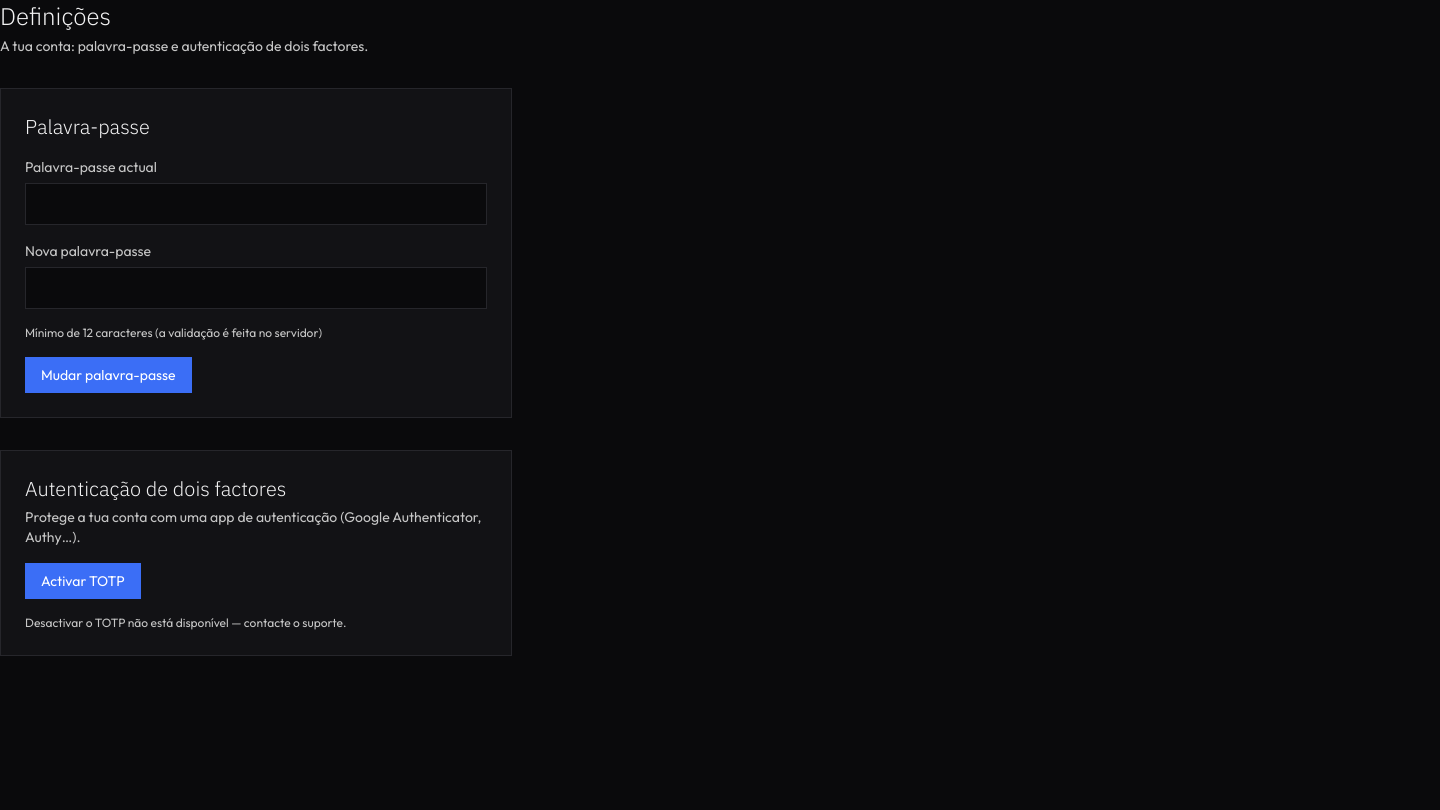
Test: SettingsPage — palavra-passe › mudança: submissão confirma no modal e envia POST exacto {currentPassword,newPassword}
In the password field labelled "Palavra-passe actual": (256, 204) [25,183,487,225], type "senha-actual-123"
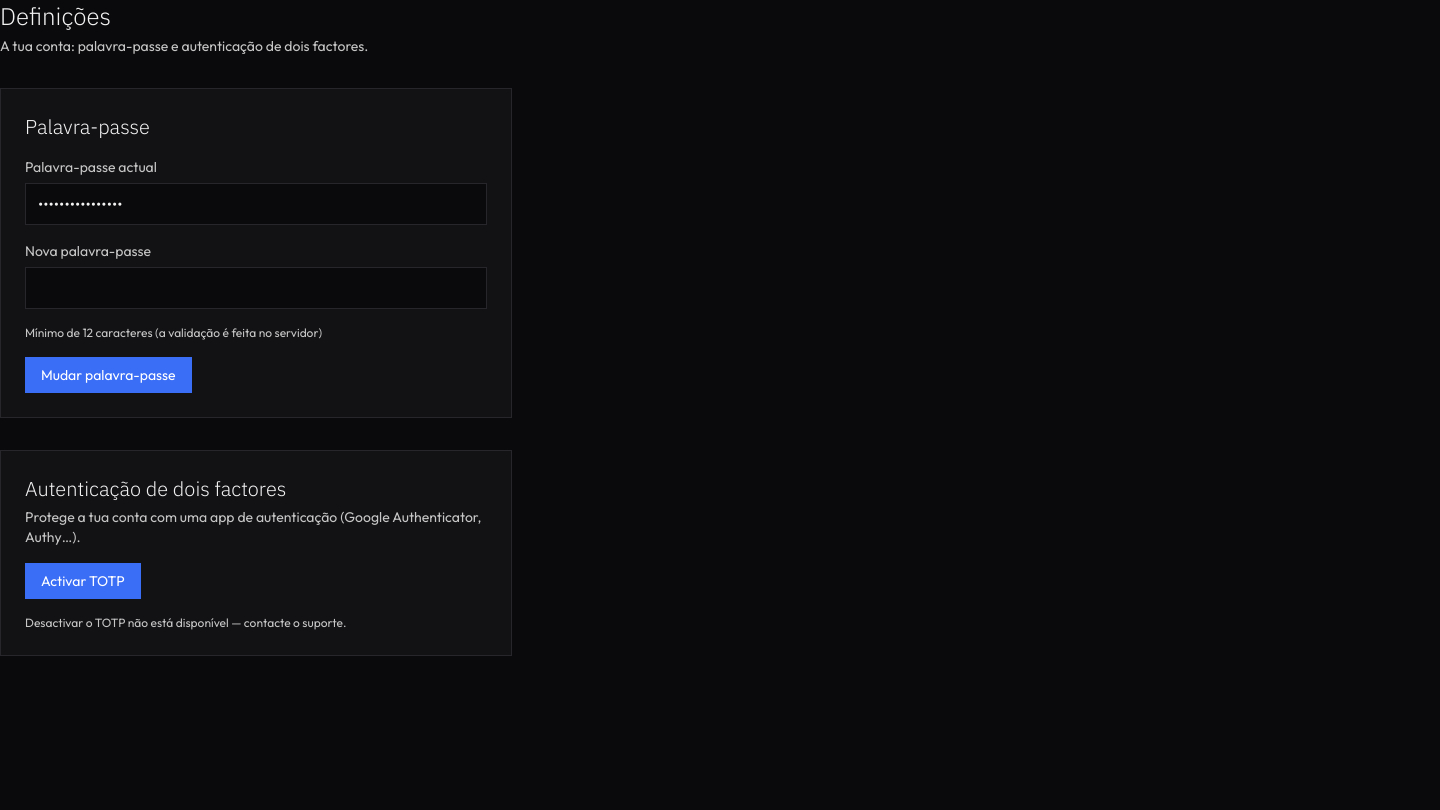
In the password field labelled "Nova palavra-passe": (256, 288) [25,267,487,309], type "senha-nova-super-forte"
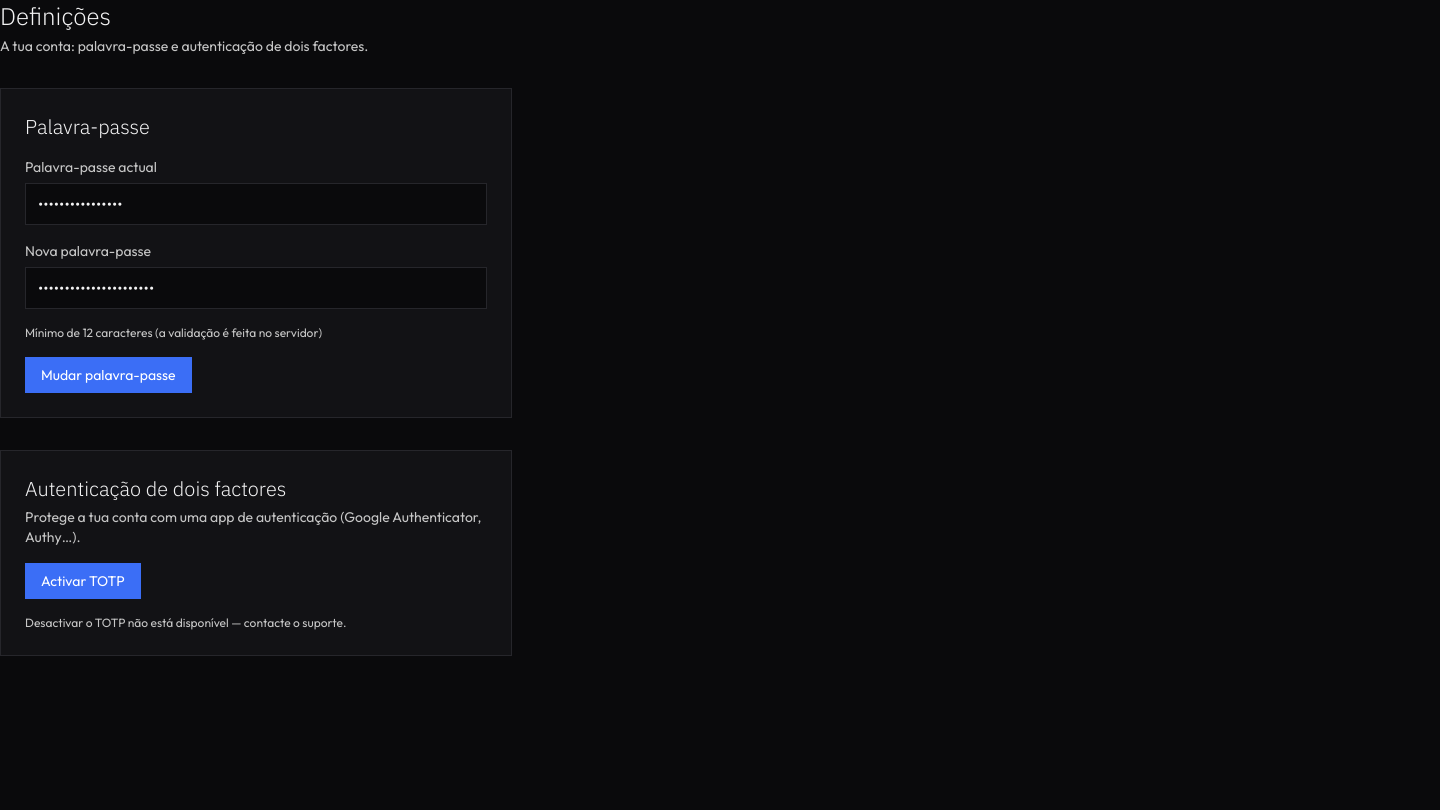
Click the button "Mudar palavra-passe": (108, 375) [25,357,192,393]
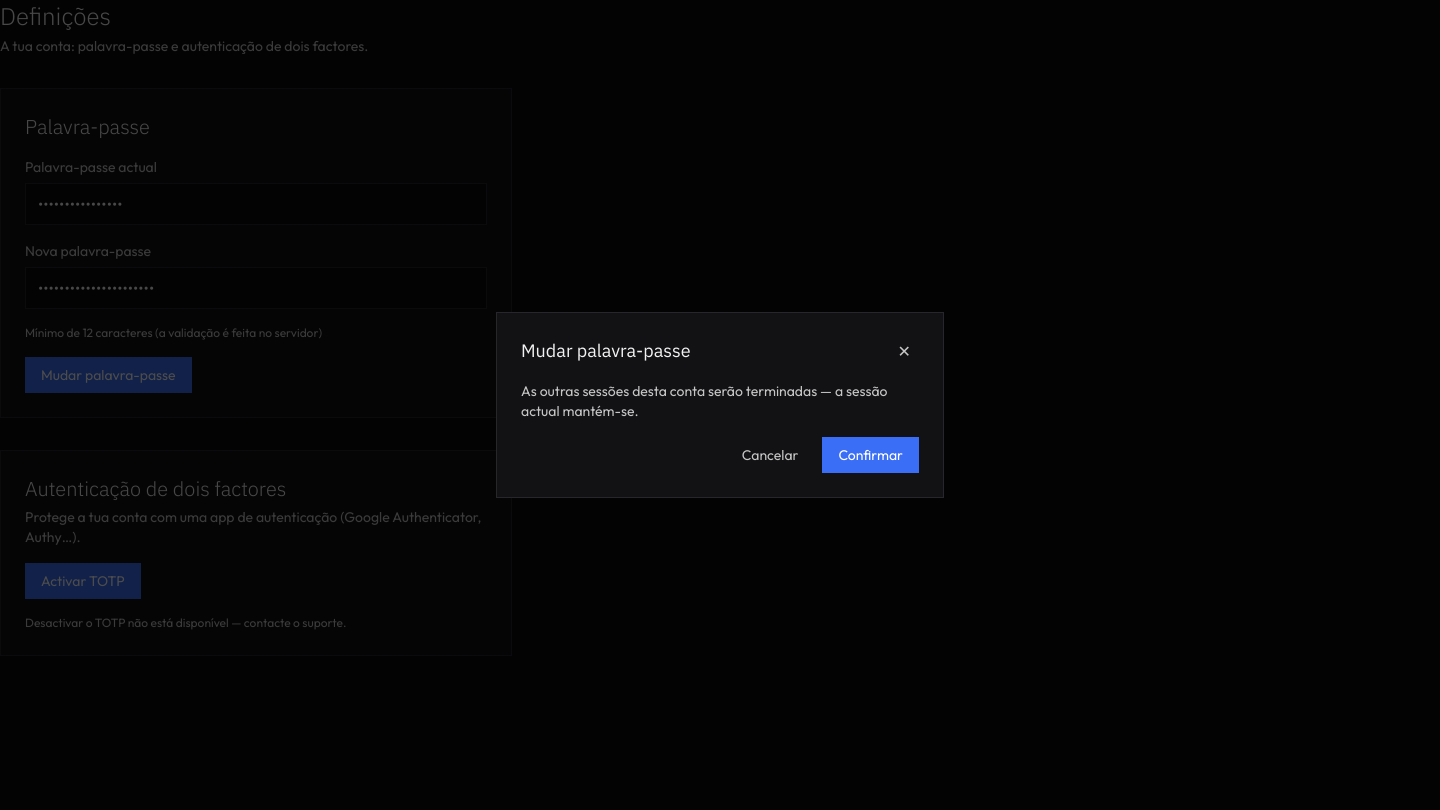
Result: the dialog shows "sessões" at [521,382,888,420]
Click the button "Confirmar": (871, 455) [822,437,919,473]
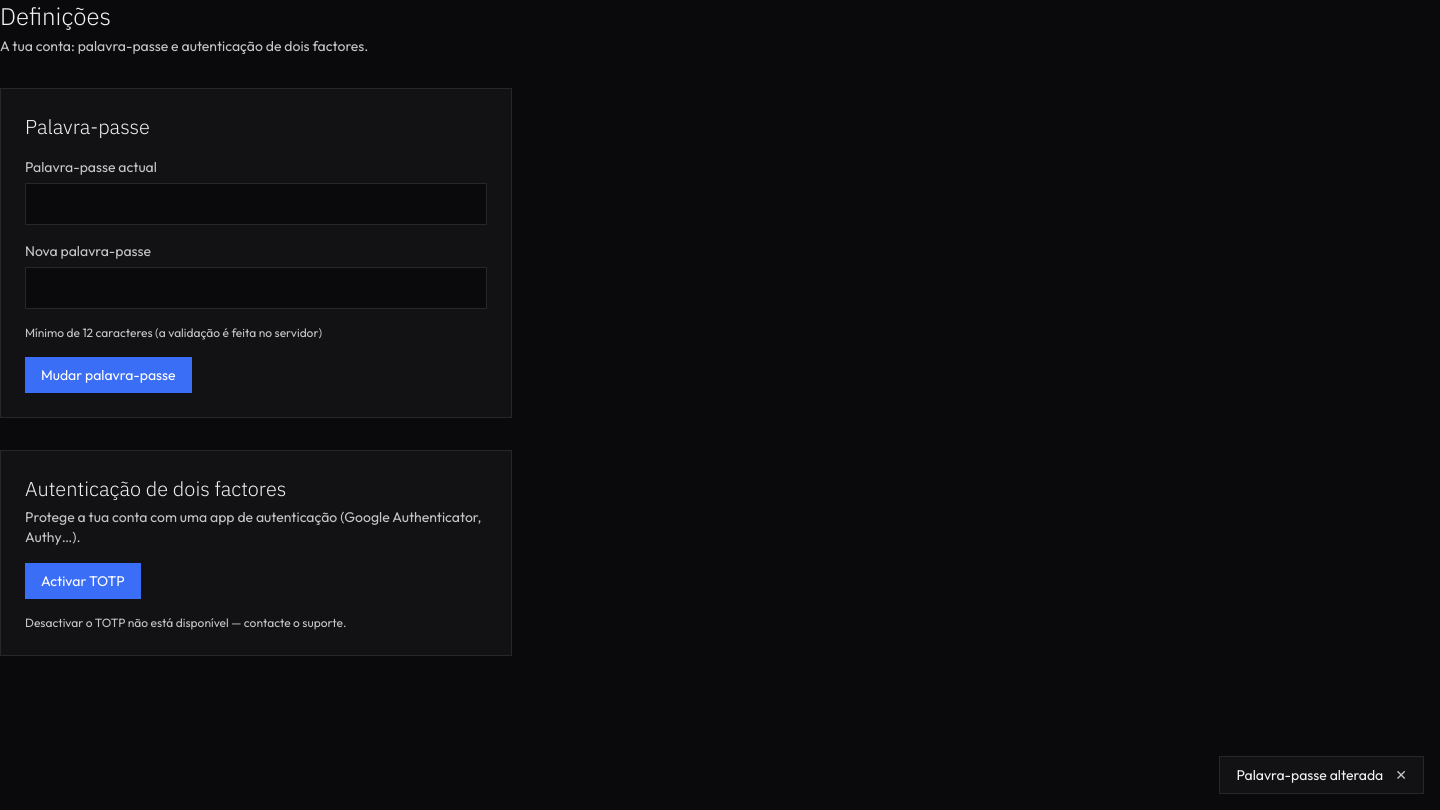
Result: the message shows "Palavra-passe alterada" at [1236,766,1383,784]
Result: the dialog is gone
Result: the password field labelled "Palavra-passe actual" is empty at [25,183,487,225]
